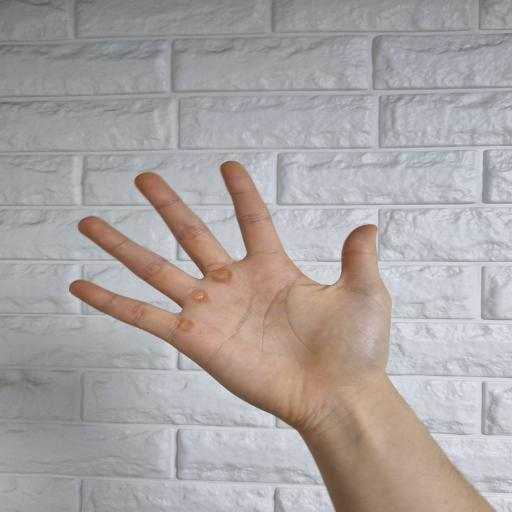Paper: (65, 157, 396, 444)
